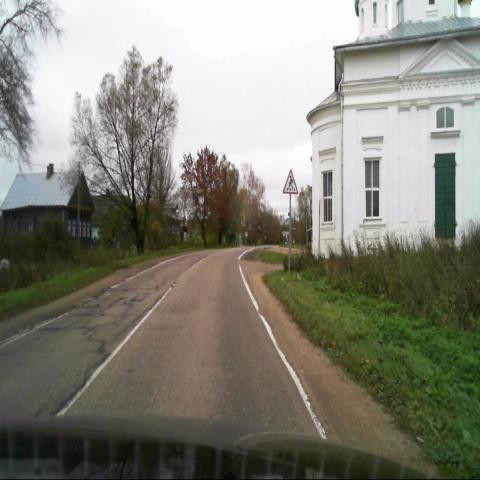1_22: (282, 169, 298, 194)
